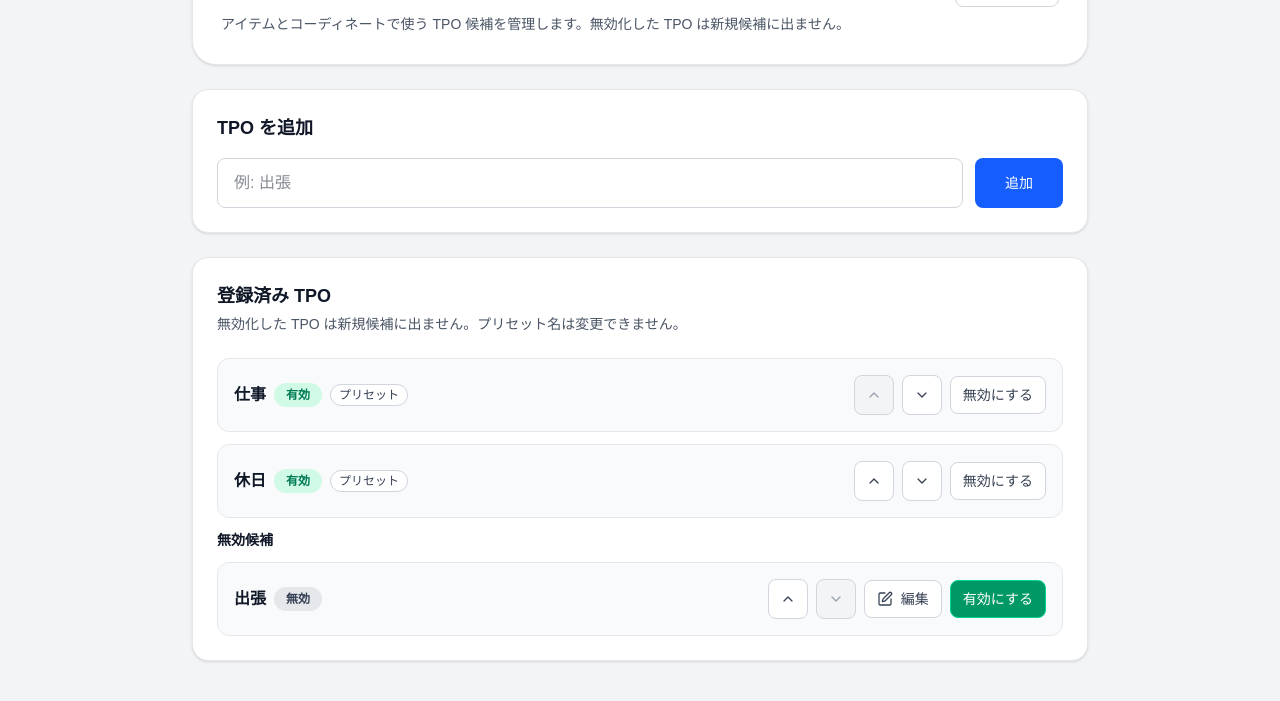
Scenario: SettingsTposPage › 状態更新失敗でも raw message を表示しない
The image size is (1280, 701).
(page scrolled)
Click the button "有効にする": (998,599) [950, 580, 1046, 618]
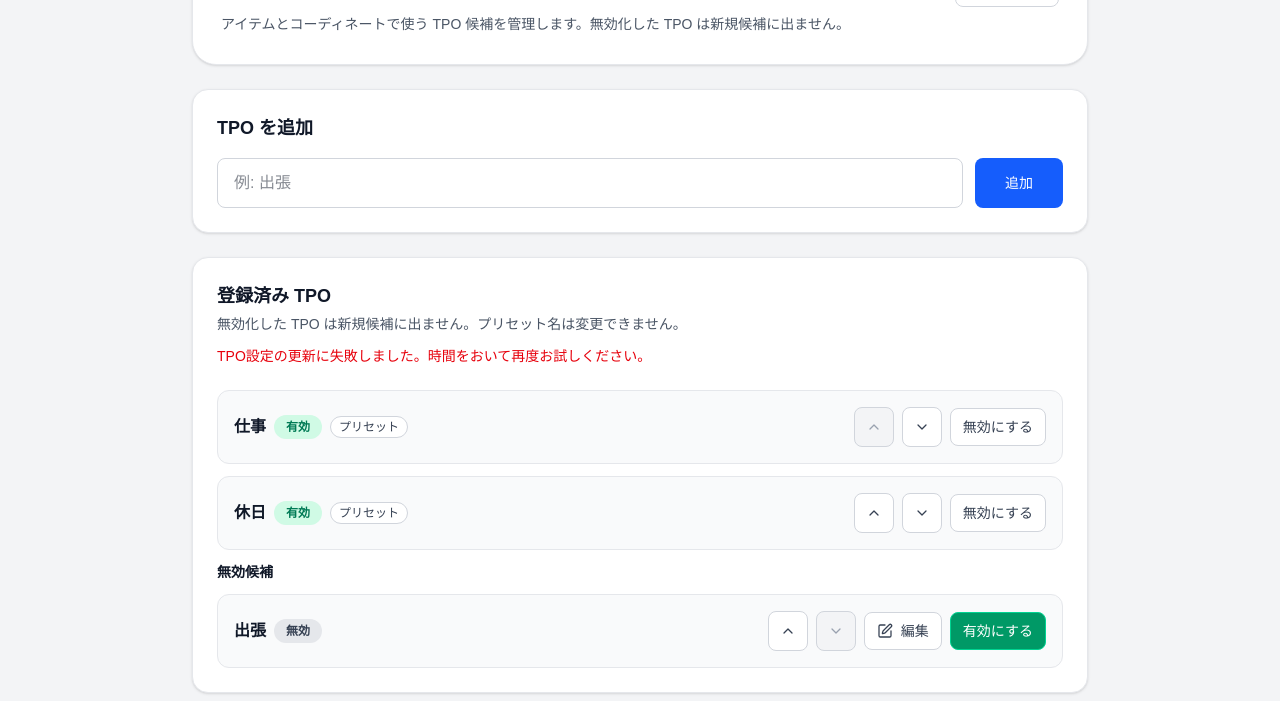
Expected: the text "TPO設定の更新に失敗しました。時間をおいて再度お試しください。" is shown, [217, 348, 651, 364]
